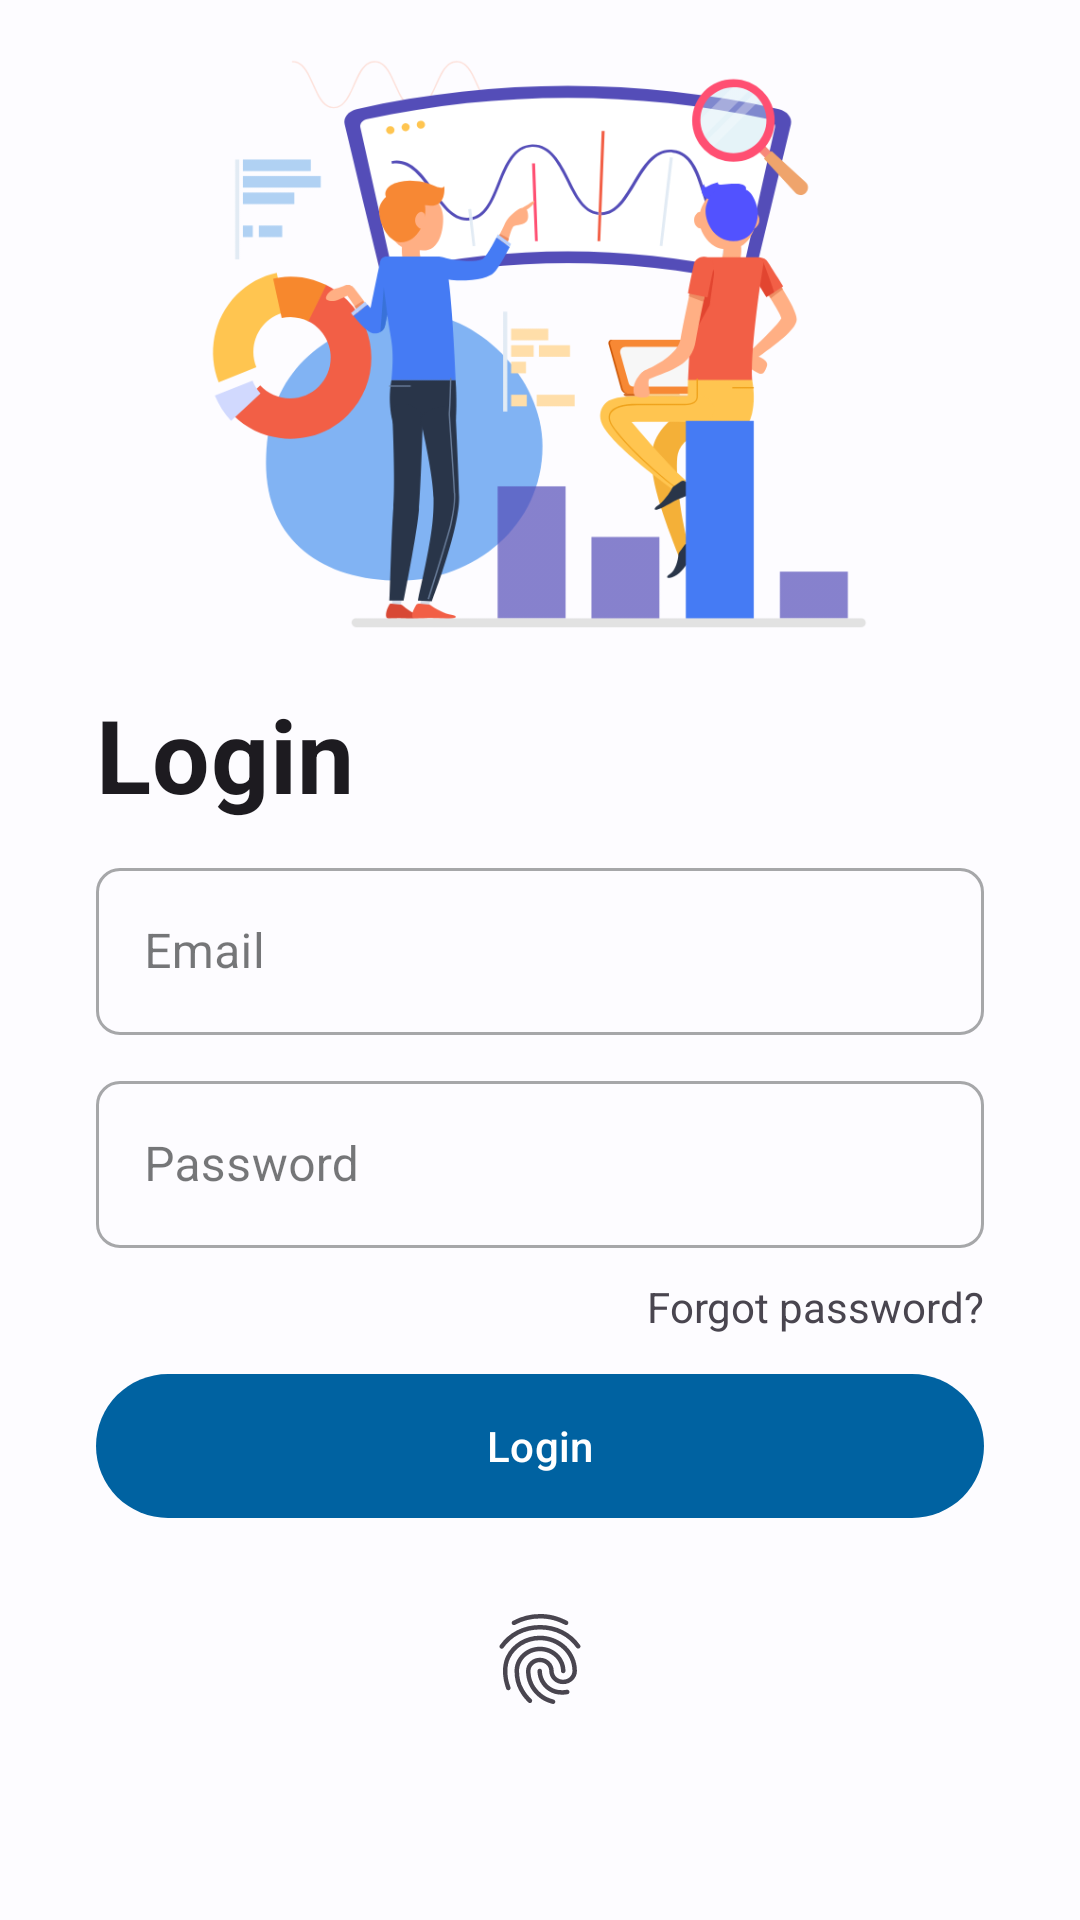

Screen size 1080w x 1920h. Icon name, then its center in pixels as [x,y]:
fingerprint: [540,1659]
